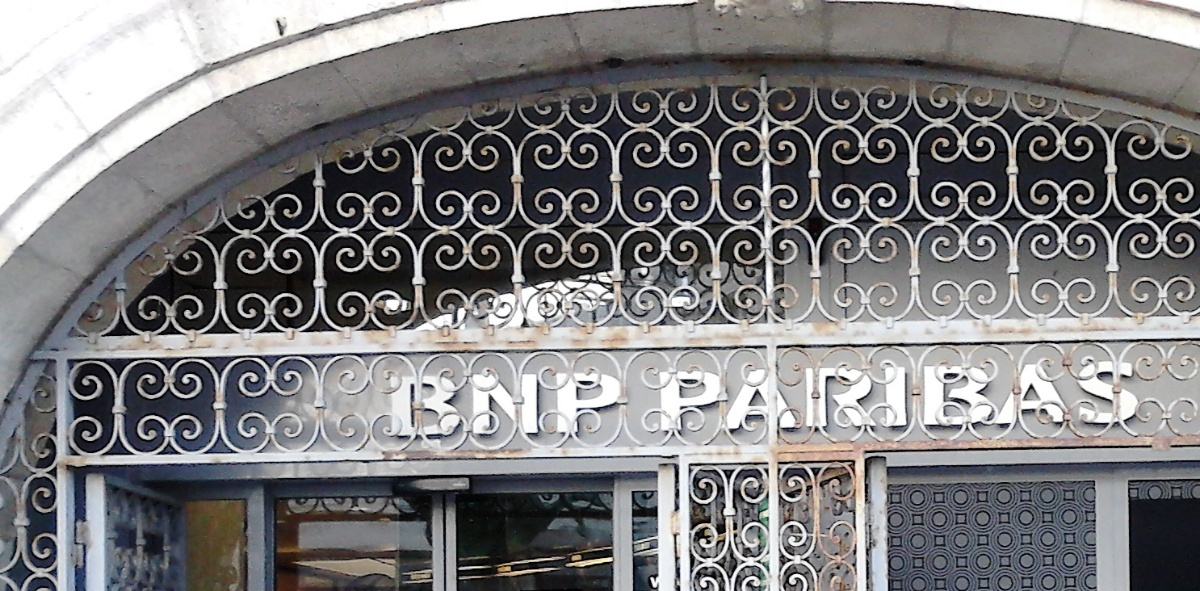text: (673, 359, 688, 433), (689, 359, 704, 433), (705, 359, 720, 433), (721, 359, 736, 433), (737, 359, 752, 433), (753, 359, 768, 433), (769, 359, 784, 433), (785, 359, 800, 433), (801, 359, 816, 433), (817, 359, 832, 433), (833, 359, 848, 433), (849, 359, 864, 433), (865, 359, 880, 433), (881, 359, 896, 433), (897, 359, 912, 433), (913, 359, 928, 433), (929, 359, 944, 433), (945, 359, 960, 433), (961, 359, 976, 433), (977, 359, 992, 433), (993, 359, 1008, 433), (1009, 359, 1024, 433), (1025, 359, 1040, 433), (1041, 359, 1056, 433), (1057, 359, 1072, 433), (1073, 359, 1088, 433), (1089, 359, 1104, 433), (1105, 359, 1120, 433), (1121, 359, 1136, 433), (401, 371, 416, 438), (417, 371, 432, 438), (433, 371, 448, 438), (449, 371, 464, 438), (465, 371, 480, 438), (481, 371, 496, 438), (497, 371, 512, 438), (513, 371, 528, 438), (529, 371, 544, 438), (545, 371, 560, 438), (561, 371, 576, 438), (577, 371, 592, 438), (593, 371, 608, 438), (609, 371, 624, 438), (659, 359, 672, 433), (392, 371, 400, 438), (1137, 359, 1140, 433), (625, 371, 626, 438)
